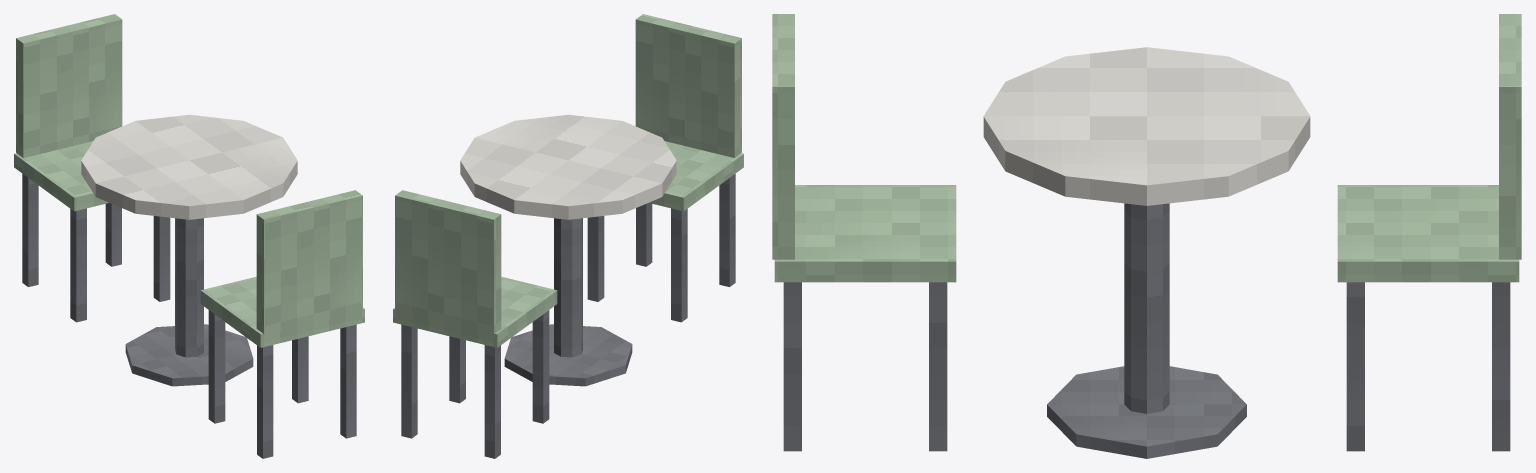
Rendered from pixel-modern-apartments-balcony-table-and-chairs-a2d711eb__29874.glb.
3 renders of one model, left to right at view 1: azimuth 30°, elevation 25°; view 2: azimuth 150°, elevation 25°; view 3: azimuth 270°, elevation 25°, orthographic. The views are drawn at different scales.
Parts seen in each view (by area): view 1: balcony-table-and-chairs; view 2: balcony-table-and-chairs; view 3: balcony-table-and-chairs.
Part boxes in pixels (left/top/right/bottom): balcony-table-and-chairs: left=14, top=14, right=364, bottom=458; balcony-table-and-chairs: left=393, top=14, right=743, bottom=458; balcony-table-and-chairs: left=772, top=14, right=1521, bottom=458.
Bounding box in the file's own units: 0.72 × 0.89 × 1.65.
Materials: 3 (3 with a texture image).
